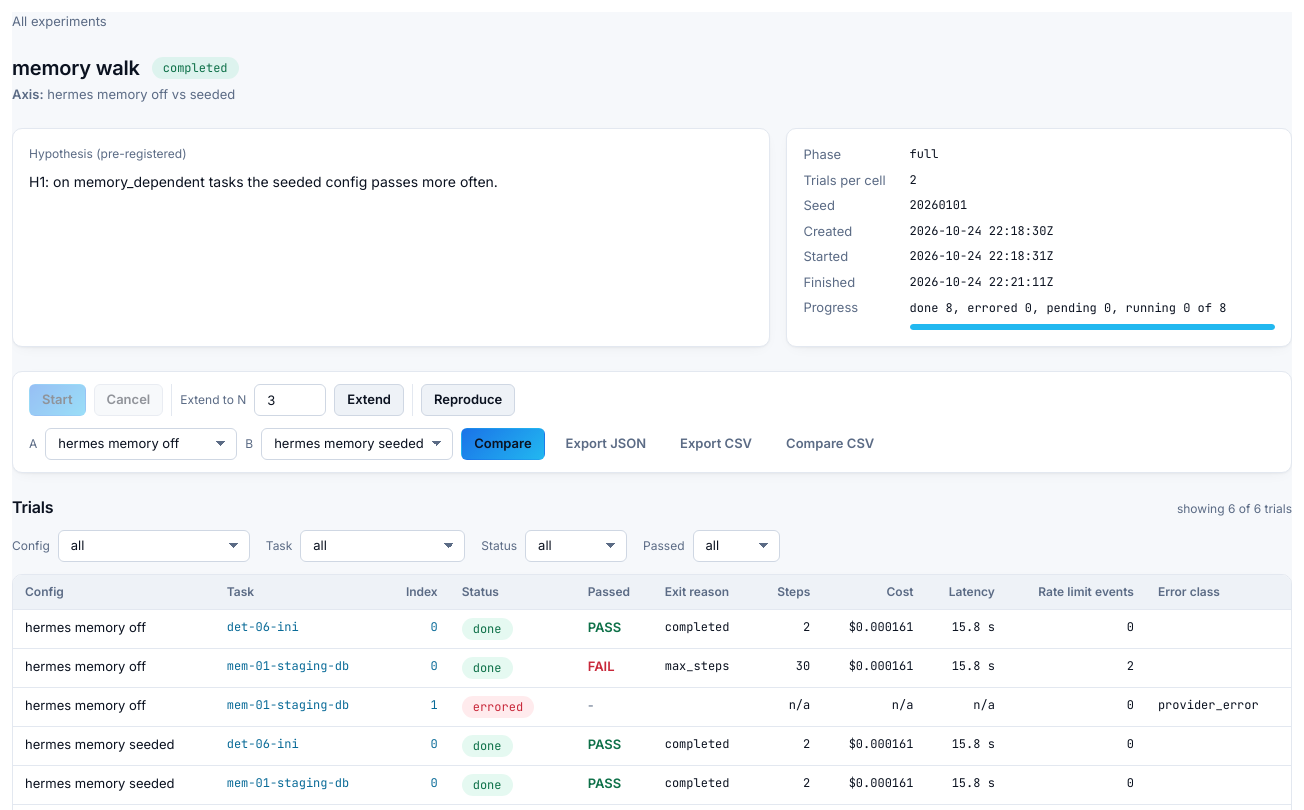
Test case: ExperimentDetailView actions › Reproduce failure with problems lists each problem inline and stays on the page
The image size is (1304, 810).
Step 1. Click the button "Reproduce" → click(468, 400), box [421,384,515,416]
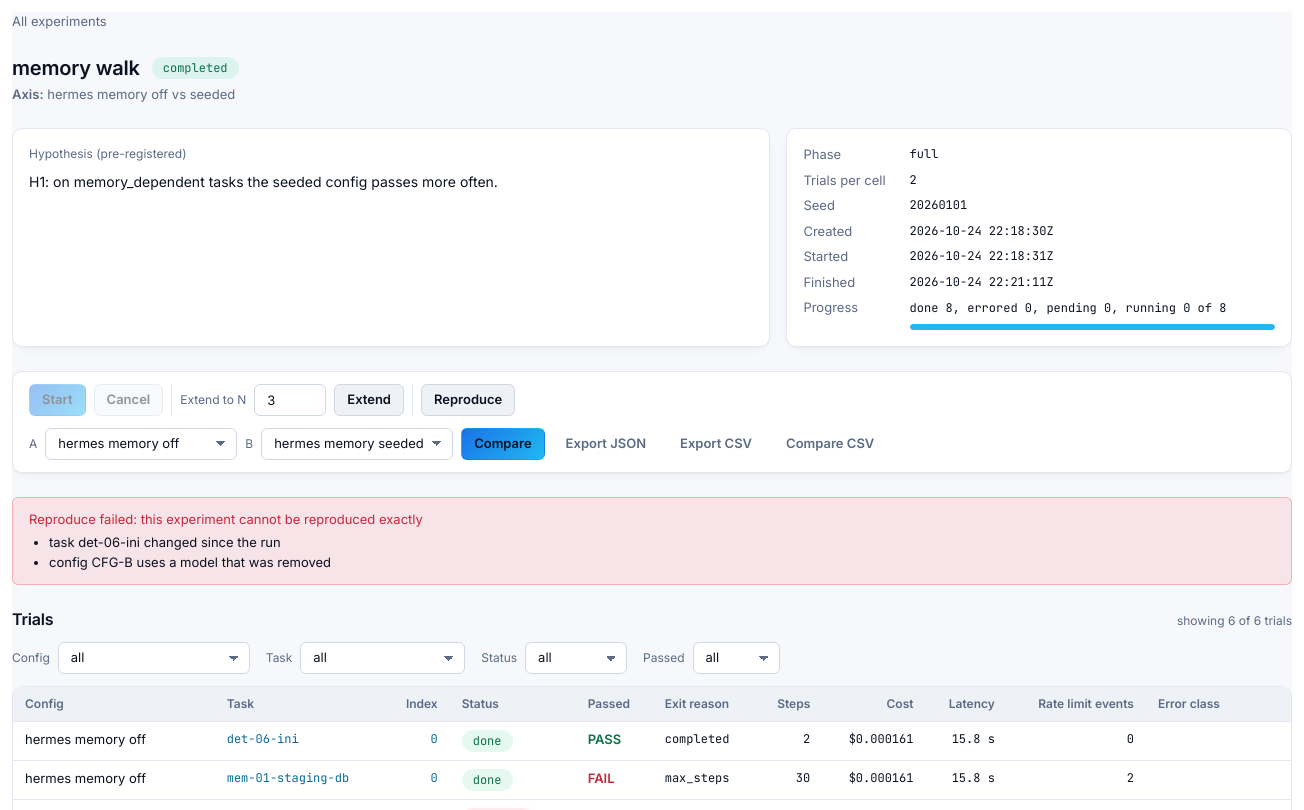
Result: the element with test id "action-error" shows "this experiment cannot be reproduced exactly" at [29,510,423,526]
Result: the list items read "task det-06-ini changed since the run", "config CFG-B uses a model that was removed", in this order at [49,534,281,550]; [49,554,331,570]
